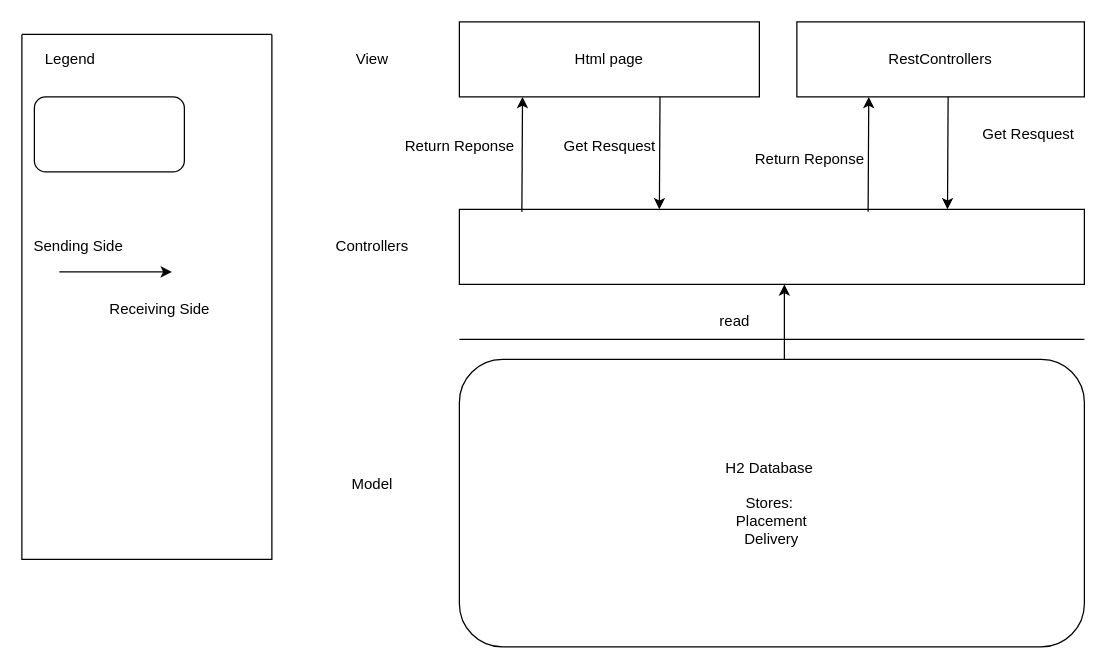
This 1106x669 diagram has some shape labels left out. The centre of each missing label's shape, as x and y in pixels:
Database: pixel 108 134
Java Services. Doing Calculation and aggregation on data.: pixel 771 246
